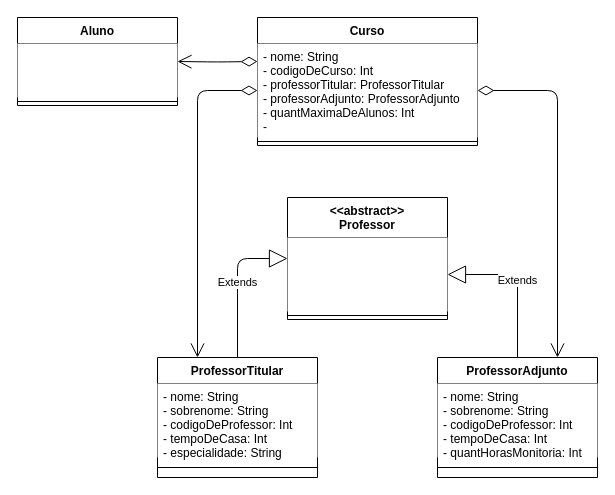
Image size: 615x495. Some labels were removed from this diagram. Each missing label, with the centre of its shape:
"- nome: String - sobrenome: String - codigoDeAluno: Int" belongs at [97,70].
"- nome: String - sobrenome: String - codigoDeProfessor: Int - tempoDeCasa: Int" belongs at [367,274].
